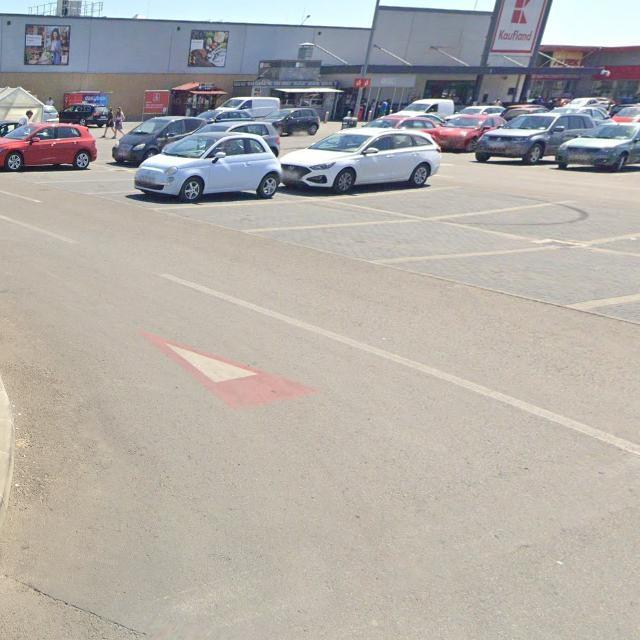prio_give_way: (138, 327, 328, 412)
